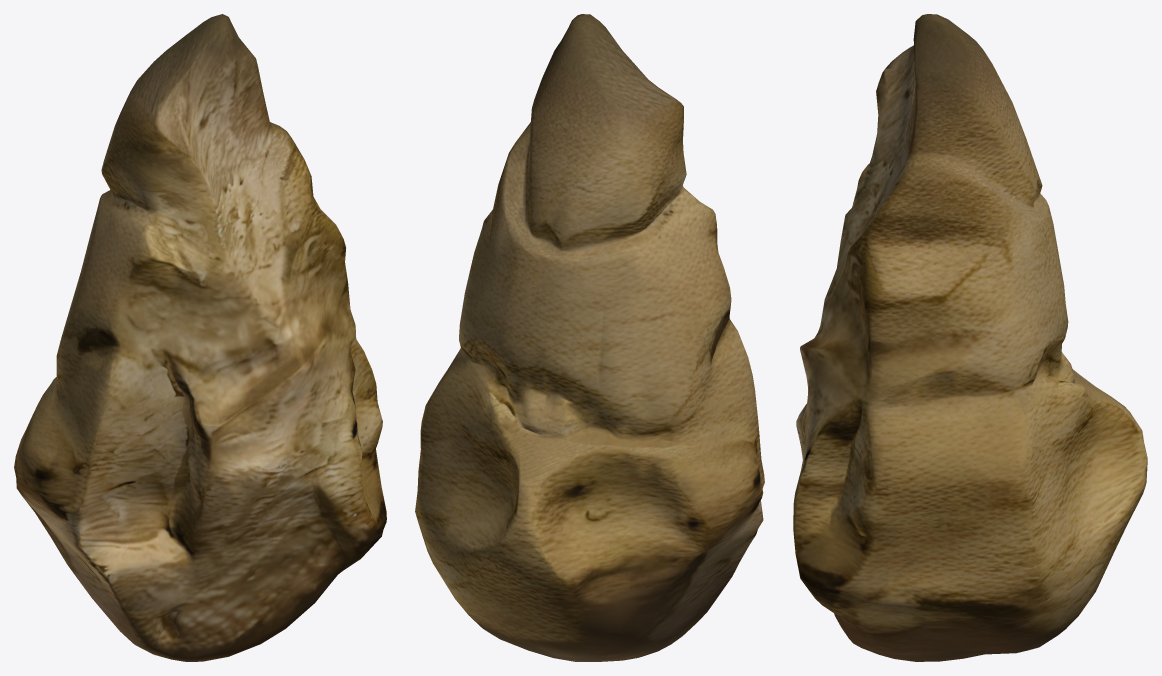
Rendered from HandAxe.fbx.
3 renders of one model, left to right at view 1: azimuth 30°, elevation 25°; view 2: azimuth 150°, elevation 25°; view 3: azimuth 270°, elevation 25°, orthographic. The views are drawn at different scales.
Visible parts, largest first — view 1: Hand-axe(Baked); view 2: Hand-axe(Baked); view 3: Hand-axe(Baked).
Part boxes in pixels (<box>): Hand-axe(Baked): <box>14,14,386,661</box>; Hand-axe(Baked): <box>415,14,764,661</box>; Hand-axe(Baked): <box>793,14,1147,661</box>.
Bounding box in the file's own units: 7.91 × 15.3 × 7.55.
Materials: 1 (1 with a texture image).
